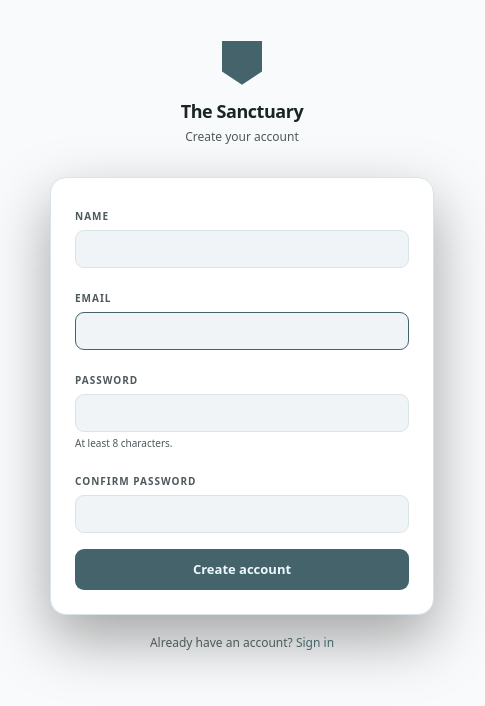
Test case: later sign-ups: shows the server validation message and a way back to sign-in
In the field labelled "Email": (242, 331) x1=75 y1=312 x2=409 y2=350, type "new@example.com"
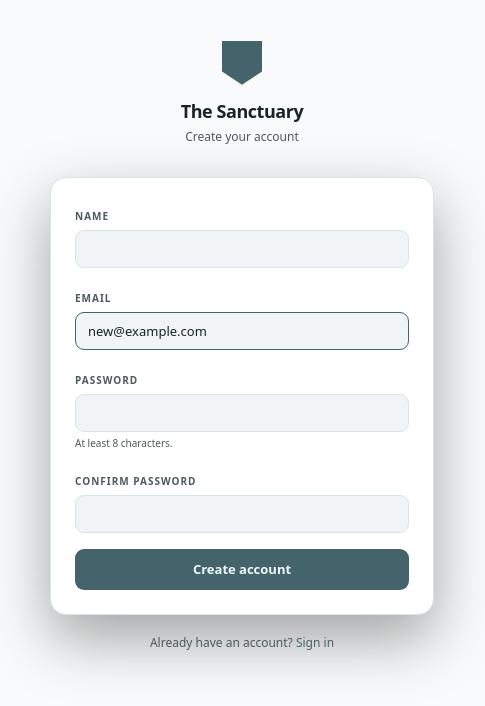
In the password field labelled "Password": (242, 413) x1=75 y1=394 x2=409 y2=432, type "password123"
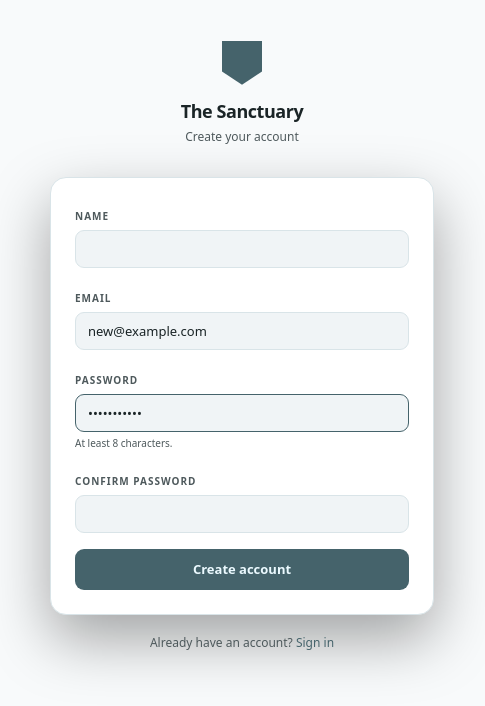
In the password field labelled "Confirm password": (242, 514) x1=75 y1=495 x2=409 y2=533, type "password124"
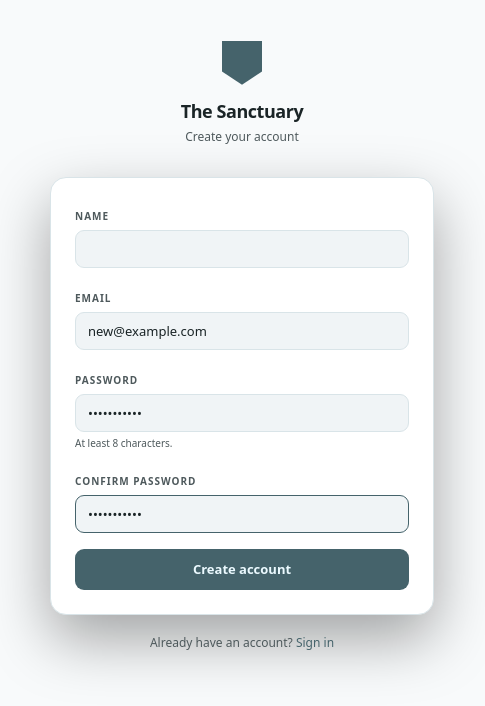
Click the button "Create account": (242, 570) x1=75 y1=549 x2=409 y2=590
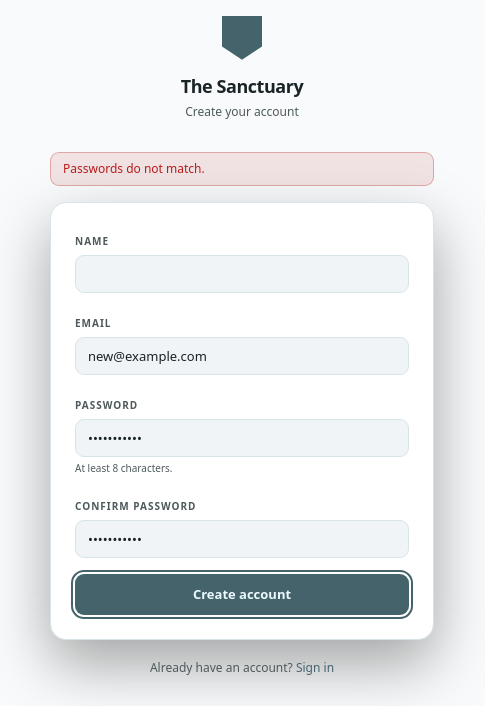
Result: the message reads "Passwords do not match." at x1=63 y1=160 x2=205 y2=177
